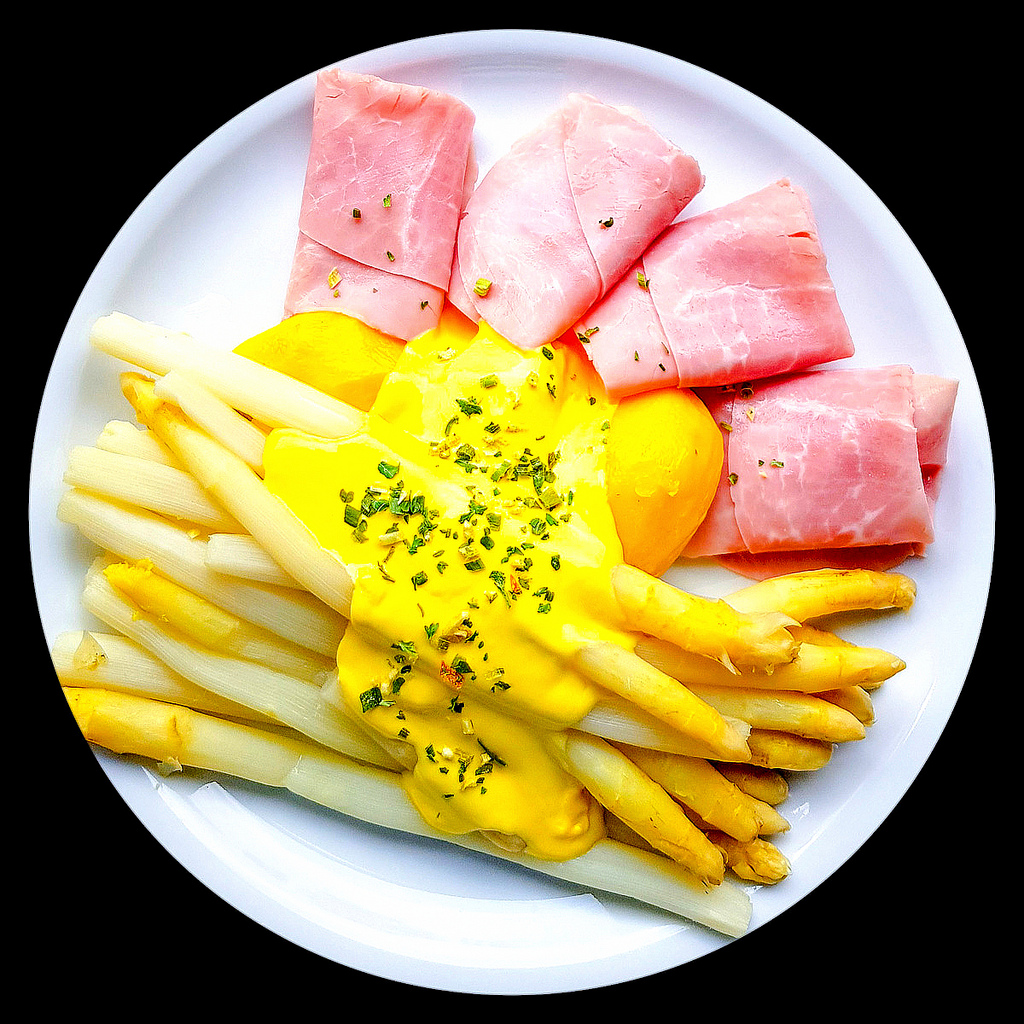boiled potatoes: (607, 395, 724, 573), (231, 321, 412, 407)
